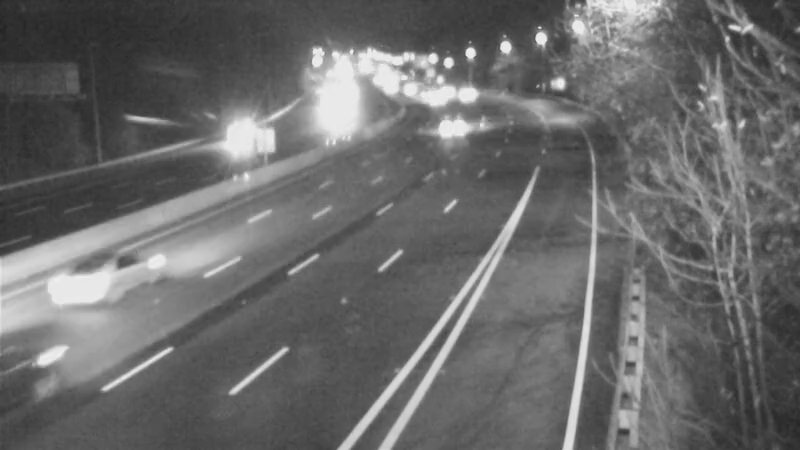vehicle: (1, 335, 90, 445), (42, 247, 122, 327), (438, 70, 488, 120), (410, 72, 460, 122), (427, 98, 477, 148), (204, 122, 254, 172)
